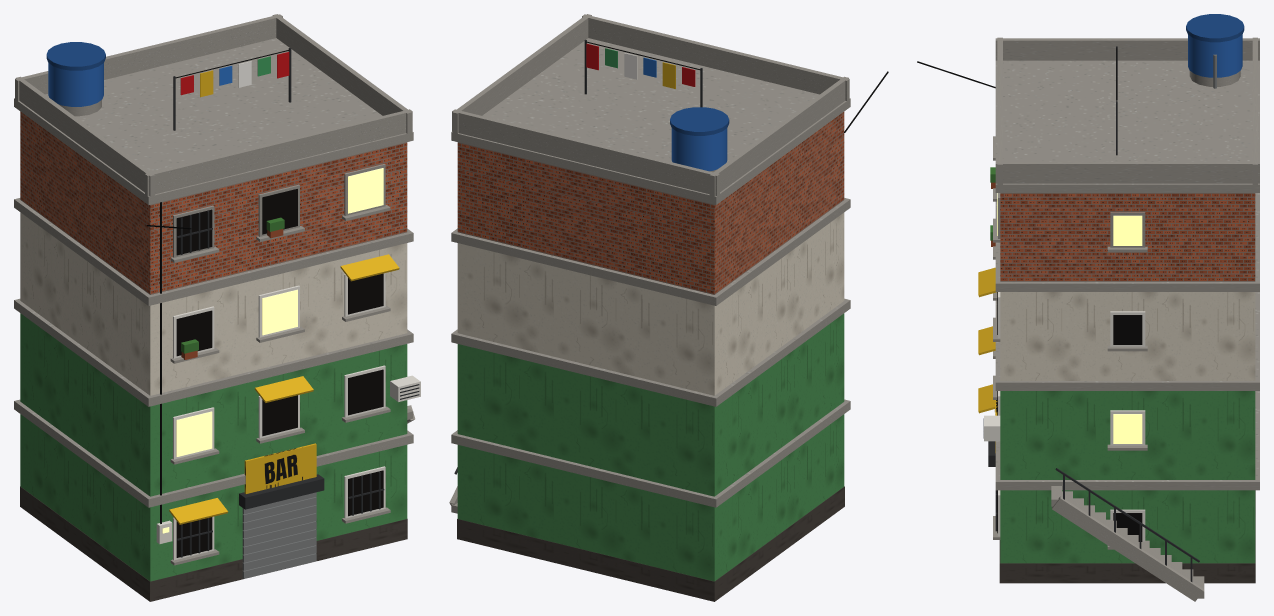
The model's file is favela-verde.glb.
3 renders of one model, left to right at view 1: azimuth 30°, elevation 25°; view 2: azimuth 150°, elevation 25°; view 3: azimuth 270°, elevation 25°, orthographic.
Parts seen in each view (by area): view 1: verde_piso_3, verde_piso_2, verde_piso_1, verde_losa_3, verde_piso_0, verde_zocalo, verde_pretil_0, verde_persiana, verde_losa_1, verde_losa_2, verde_pretil_1, verde_losa_0 (+27 smaller); view 2: verde_piso_1, verde_piso_2, verde_piso_3, verde_piso_0, verde_losa_3, verde_zocalo, verde_pretil_1, verde_pretil_0, verde_losa_0, verde_losa_2, verde_losa_1, verde_pretil_l_1 (+4 smaller); view 3: verde_losa_3, verde_piso_2, verde_piso_3, verde_piso_1, verde_piso_0, verde_pretil_l_0, verde_zocalo, verde_pretil_l_1, verde_losa_2, verde_losa_0, verde_losa_1, verde_escalera_zanca (+11 smaller).
Part boxes in pixels (box(x1,y1,x2,y2)): verde_piso_3: box(20, 111, 407, 294); verde_piso_2: box(20, 212, 407, 395); verde_piso_1: box(20, 313, 407, 496); verde_losa_3: box(14, 38, 413, 205); verde_piso_0: box(20, 414, 407, 581); verde_zocalo: box(20, 486, 407, 601); verde_pretil_0: box(145, 109, 412, 195); verde_persiana: box(242, 492, 316, 578); verde_losa_1: box(14, 298, 413, 406); verde_losa_2: box(14, 198, 413, 305); verde_pretil_1: box(15, 14, 282, 100); verde_losa_0: box(14, 399, 413, 507); verde_piso_1: box(457, 313, 844, 496); verde_piso_2: box(457, 212, 844, 395); verde_piso_3: box(457, 112, 844, 294); verde_piso_0: box(457, 414, 844, 581); verde_losa_3: box(451, 38, 850, 204); verde_zocalo: box(457, 486, 844, 601); verde_pretil_1: box(452, 109, 719, 195); verde_pretil_0: box(582, 14, 849, 100); verde_losa_0: box(451, 399, 850, 507); verde_losa_2: box(451, 198, 850, 305); verde_losa_1: box(451, 298, 850, 406); verde_pretil_l_1: box(709, 76, 848, 196); verde_losa_3: box(995, 60, 1259, 192); verde_piso_2: box(1000, 292, 1255, 380); verde_piso_3: box(1000, 193, 1255, 281); verde_piso_1: box(1000, 391, 1255, 479); verde_piso_0: box(1000, 490, 1255, 563); verde_pretil_l_0: box(995, 161, 1259, 183); verde_zocalo: box(999, 490, 1255, 583); verde_pretil_l_1: box(995, 38, 1259, 60); verde_losa_2: box(995, 193, 1259, 291); verde_losa_0: box(995, 391, 1259, 490); verde_losa_1: box(995, 292, 1259, 390); verde_escalera_zanca: box(1052, 496, 1203, 601).
Bounding box in the file's own units: 9.2 × 13.79 × 9.4.
Materials: 23 (7 with a texture image).
